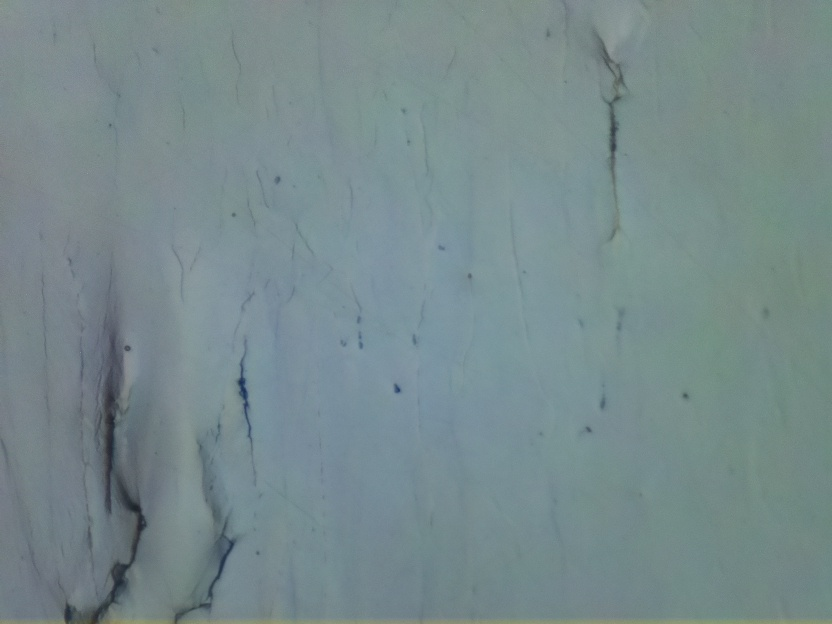crack: (62, 345, 143, 624), (594, 26, 633, 245), (169, 520, 234, 624), (233, 334, 262, 491)
